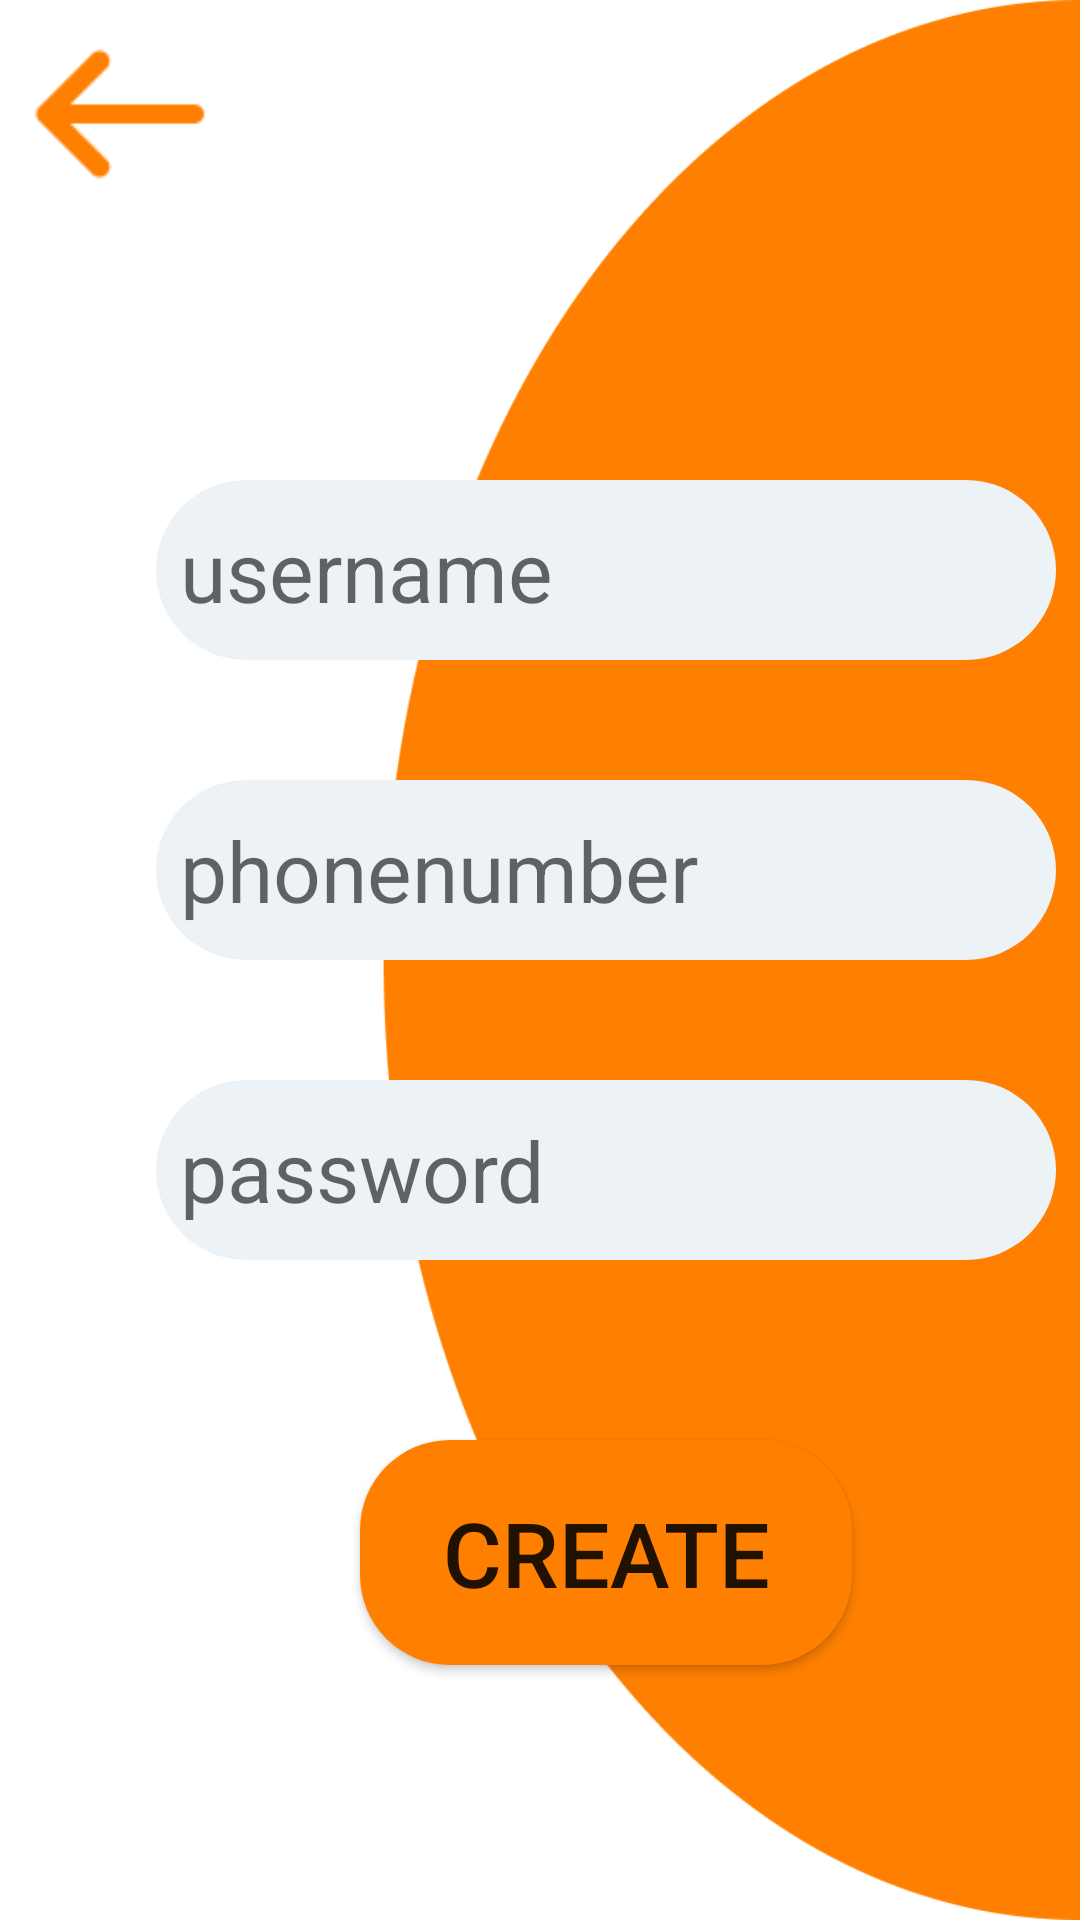

Where to tap for icons on this 1080 × 1920 app screen, as point (x, y):
iconback: point (120, 114)
